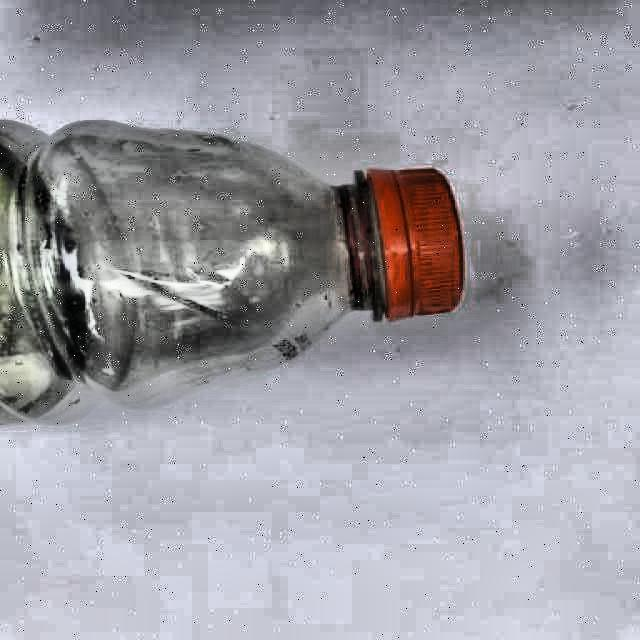plastic: (0, 121, 464, 419)
